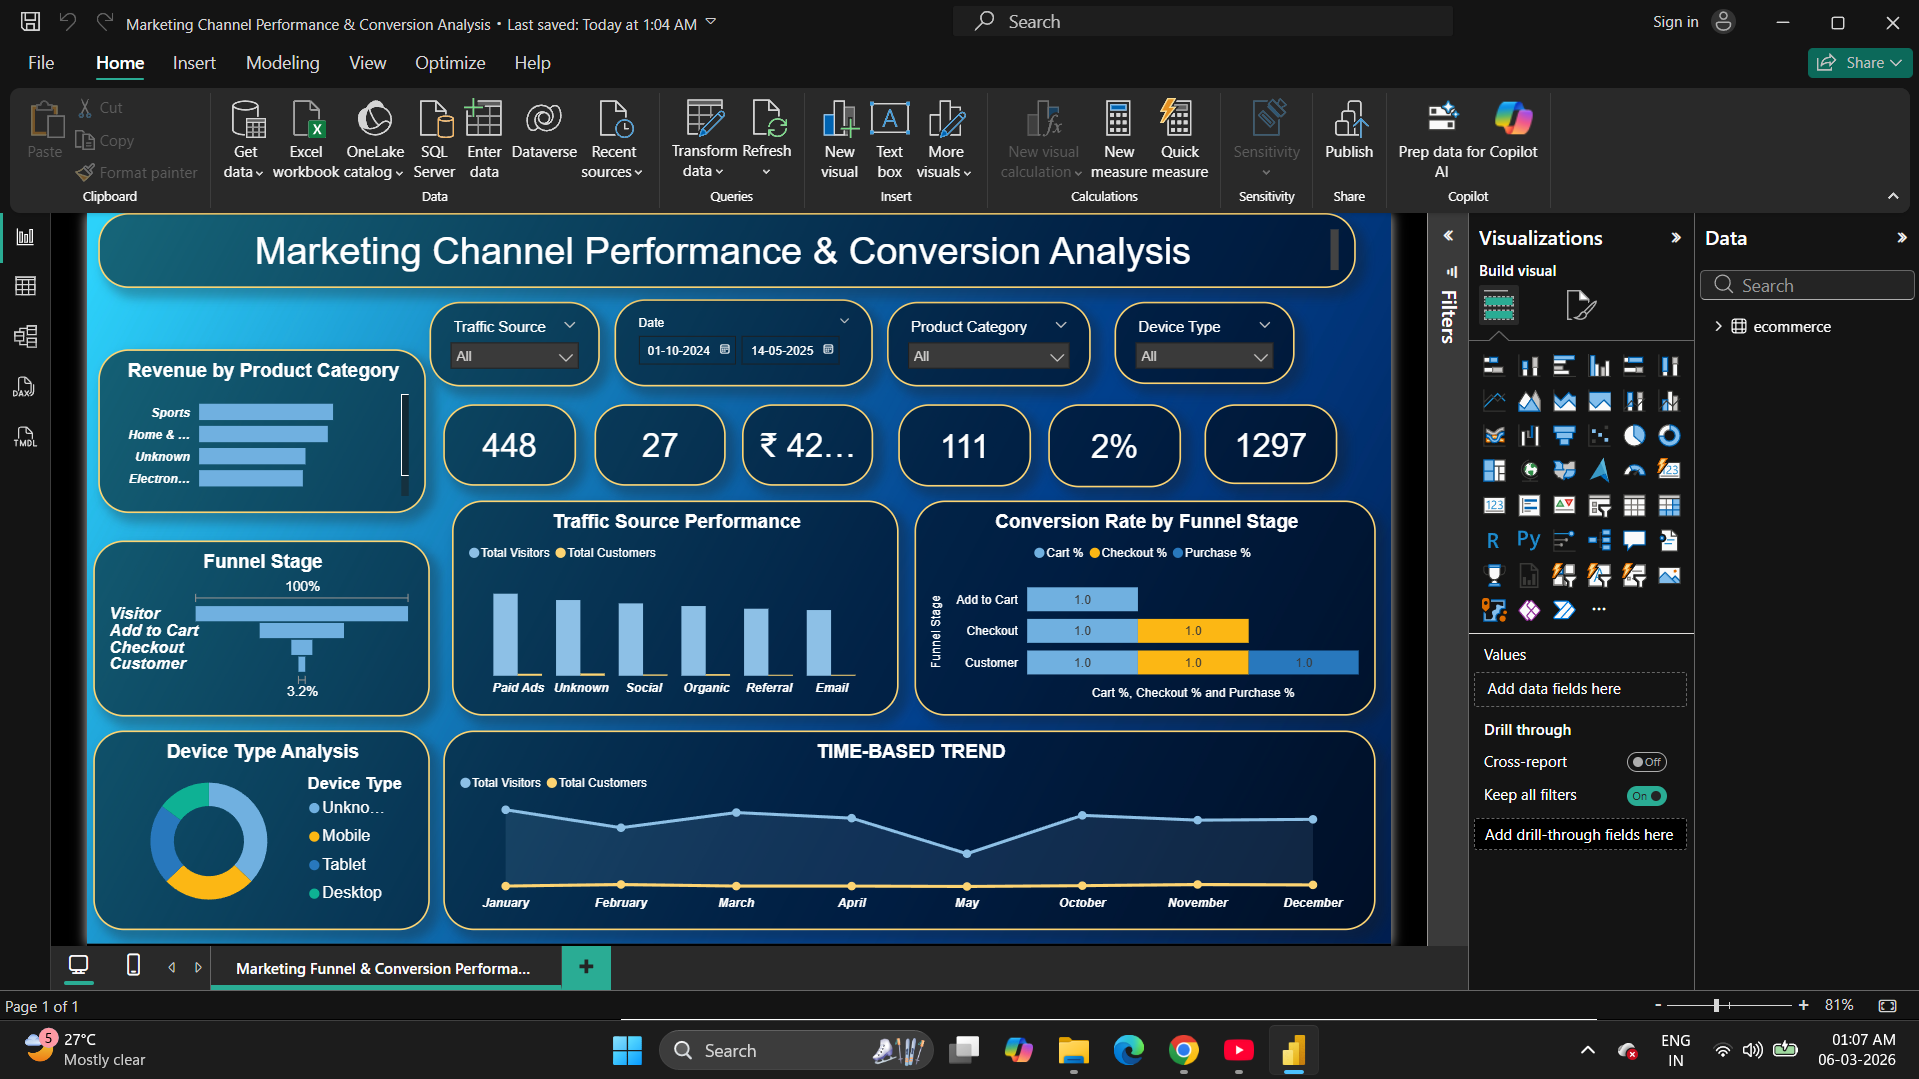

The dashboard page shown, as its layout file describes it:
{"tool":"powerbi","page":{"name":"Marketing Funnel & Conversion Performance Analysis","canvas":[1280,720],"ordinal":0},"visuals":[{"type":"card","title":"Total Visitors","fields":{"Values":["ecommerce.Total Visitors"]},"box":[1097.5,187.5,130,78.8],"z":0},{"type":"card","title":"Added to Cart","fields":{"Values":["ecommerce.Total Add to Cart"]},"box":[349.7,187.7,130.1,79.8],"z":1000},{"type":"card","title":"Total Checkouts","fields":{"Values":["ecommerce.Total Checkouts"]},"box":[796.3,187.7,130.1,81],"z":2000},{"type":"card","title":"Total Customers","fields":{"Values":["ecommerce.Total Customers"]},"box":[498.2,187.7,128.8,79.8],"z":3000},{"type":"card","title":"Total Revenue","fields":{"Values":["ecommerce.Total Revenue"]},"box":[642.9,187.7,128.8,79.8],"z":4000},{"type":"card","title":"Overall Conversion","fields":{"Values":["ecommerce.Overall Conversion %"]},"box":[943.8,187.5,130,81.2],"z":5000},{"type":"funnel","title":"Funnel Stage","fields":{"Category":["ecommerce.Funnel Stage"],"Y":["CountNonNull(ecommerce.Funnel Stage)"]},"box":[6.2,321.2,330,172.5],"z":6000},{"type":"barChart","title":"Conversion Rate by Funnel Stage","fields":{"Category":["ecommerce.Funnel Stage"],"Y":["ecommerce.Visit to Cart %","ecommerce.Cart to Checkout %","ecommerce.Checkout to Purchase %"]},"box":[812.3,282.2,452.8,211],"z":7000},{"type":"clusteredColumnChart","title":"Traffic Source Performance","fields":{"Category":["ecommerce.Traffic Source"],"Y":["ecommerce.Total Visitors","ecommerce.Total Customers"]},"box":[358.3,282.2,438,211],"z":8000},{"type":"donutChart","title":"Device Type Analysis","fields":{"Category":["ecommerce.Device Type"],"Y":["ecommerce.Total Customers"]},"box":[6.1,508,330.1,196.3],"z":9000},{"type":"clusteredBarChart","title":"Revenue by Product Category","fields":{"Category":["ecommerce.Product Category"],"Y":["ecommerce.Total Revenue"]},"box":[11,133.7,321.5,160.7],"z":10000},{"type":"lineChart","title":"TIME-BASED TREND","fields":{"Y":["ecommerce.Total Visitors","ecommerce.Total Customers"],"Category":["ecommerce.Event Date.Variation.Date Hierarchy.Month"]},"box":[350,507.5,915,196.2],"z":11000},{"type":"slicer","fields":{"Values":["ecommerce.Traffic Source"]},"box":[336.2,87.1,166.9,83.4],"z":12000},{"type":"slicer","fields":{"Values":["ecommerce.Device Type"]},"box":[1008.6,87.1,176.7,81],"z":13000},{"type":"slicer","fields":{"Values":["ecommerce.Product Category"]},"box":[785.3,87.1,200,83.4],"z":14000},{"type":"slicer","fields":{"Values":["ecommerce.Event Date"]},"box":[517.8,84.7,254,85.9],"z":15000},{"type":"textbox","box":[11,0,1234.4,73.6],"z":16000}]}

Visuals, with their boxes on the page's 1280x720 design canvas (x1, y1, x2, y2). These are canvas units, not pixel positions in the 1919x1079 screenshot, which may show the page scaled, cropped or inside an application window:
"Total Visitors" card: {"left": 1098, "top": 188, "right": 1228, "bottom": 266}
"Added to Cart" card: {"left": 350, "top": 188, "right": 480, "bottom": 268}
"Total Checkouts" card: {"left": 796, "top": 188, "right": 926, "bottom": 269}
"Total Customers" card: {"left": 498, "top": 188, "right": 627, "bottom": 268}
"Total Revenue" card: {"left": 643, "top": 188, "right": 772, "bottom": 268}
"Overall Conversion" card: {"left": 944, "top": 188, "right": 1074, "bottom": 269}
"Funnel Stage" funnel: {"left": 6, "top": 321, "right": 336, "bottom": 494}
"Conversion Rate by Funnel Stage" barChart: {"left": 812, "top": 282, "right": 1265, "bottom": 493}
"Traffic Source Performance" clusteredColumnChart: {"left": 358, "top": 282, "right": 796, "bottom": 493}
"Device Type Analysis" donutChart: {"left": 6, "top": 508, "right": 336, "bottom": 704}
"Revenue by Product Category" clusteredBarChart: {"left": 11, "top": 134, "right": 332, "bottom": 294}
"TIME-BASED TREND" lineChart: {"left": 350, "top": 508, "right": 1265, "bottom": 704}
slicer - ecommerce.Traffic Source: {"left": 336, "top": 87, "right": 503, "bottom": 170}
slicer - ecommerce.Device Type: {"left": 1009, "top": 87, "right": 1185, "bottom": 168}
slicer - ecommerce.Product Category: {"left": 785, "top": 87, "right": 985, "bottom": 170}
slicer - ecommerce.Event Date: {"left": 518, "top": 85, "right": 772, "bottom": 171}
textbox: {"left": 11, "top": 0, "right": 1245, "bottom": 74}
